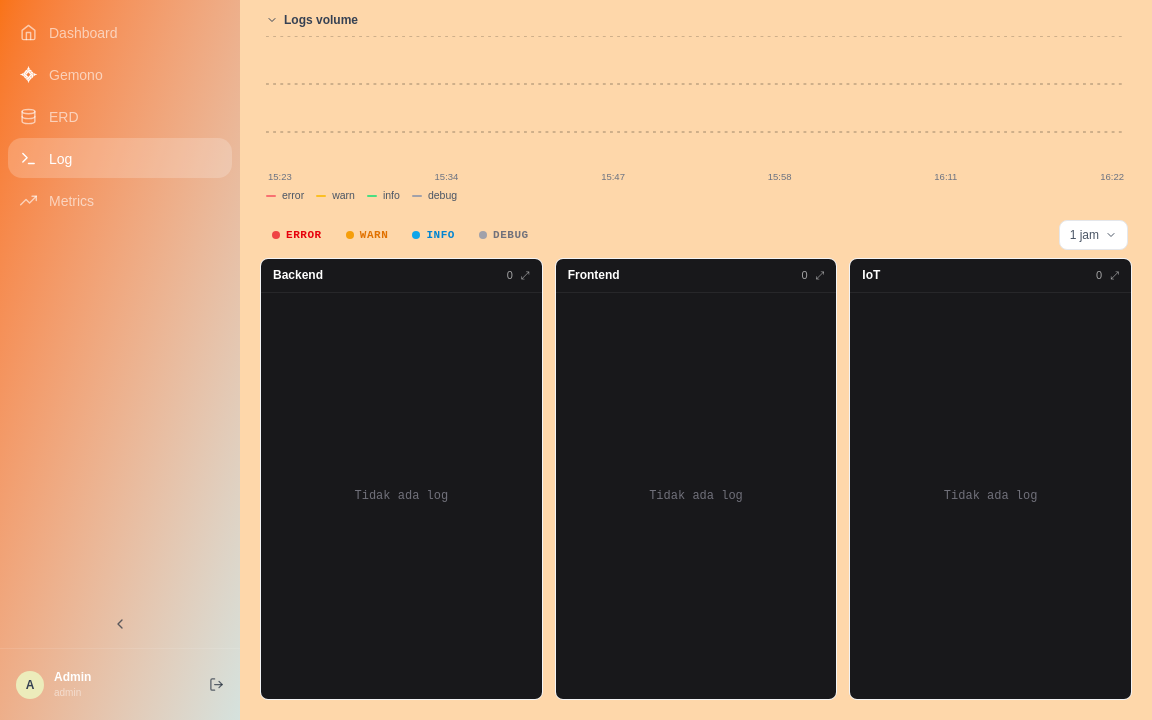
LogPage › dropdown range menampilkan opsi dan memilih rentang baru menarik ulang log
Click the button "1 jam" at (1093, 235), box [1059,220,1128,250]
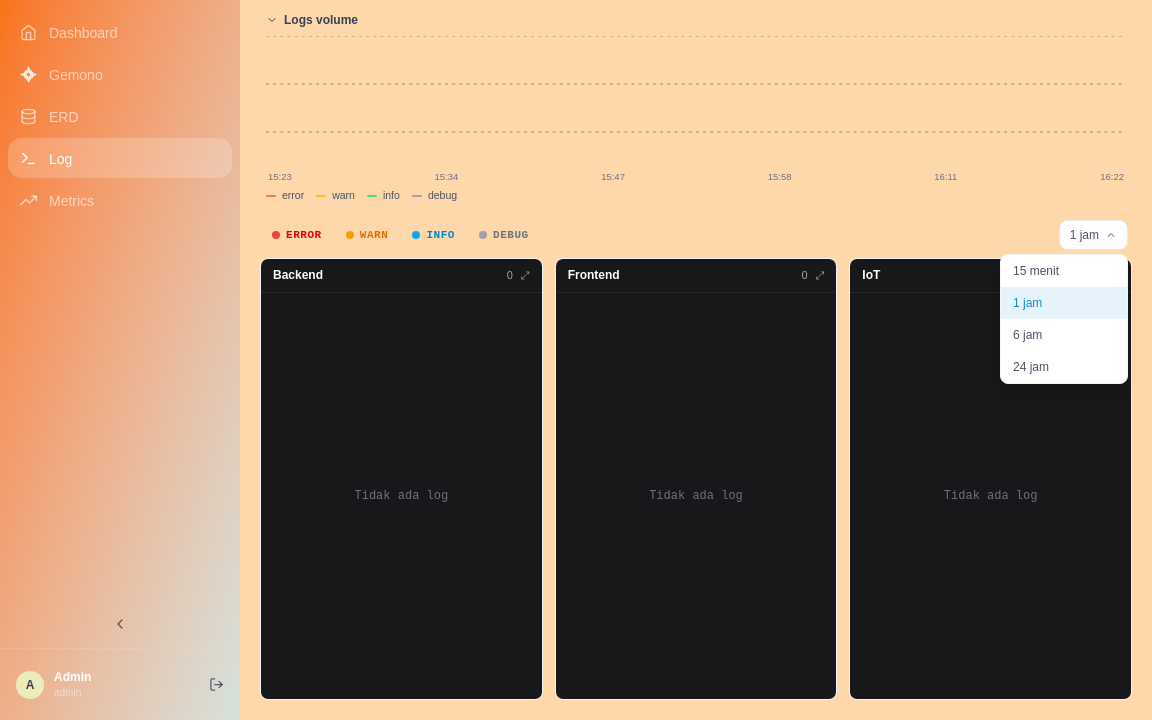
Click the button "24 jam" at (1064, 367), box [1001,351,1127,383]
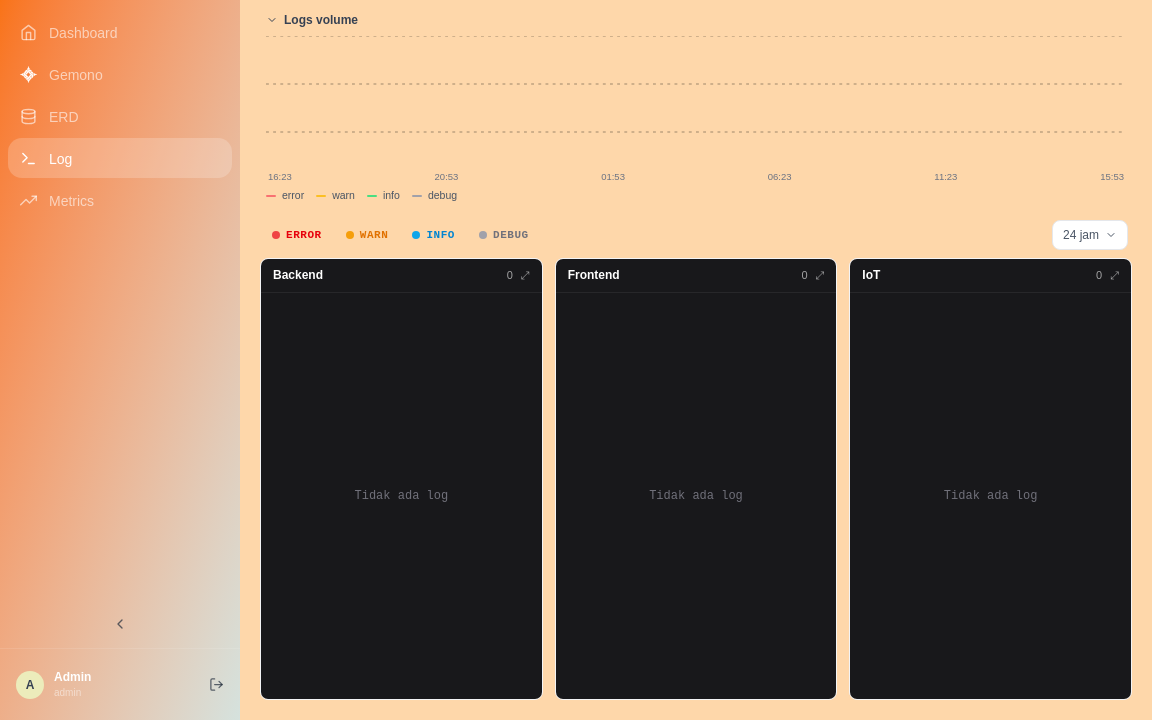
Now the button "24 jam" is shown, box [1052,220,1128,250]
